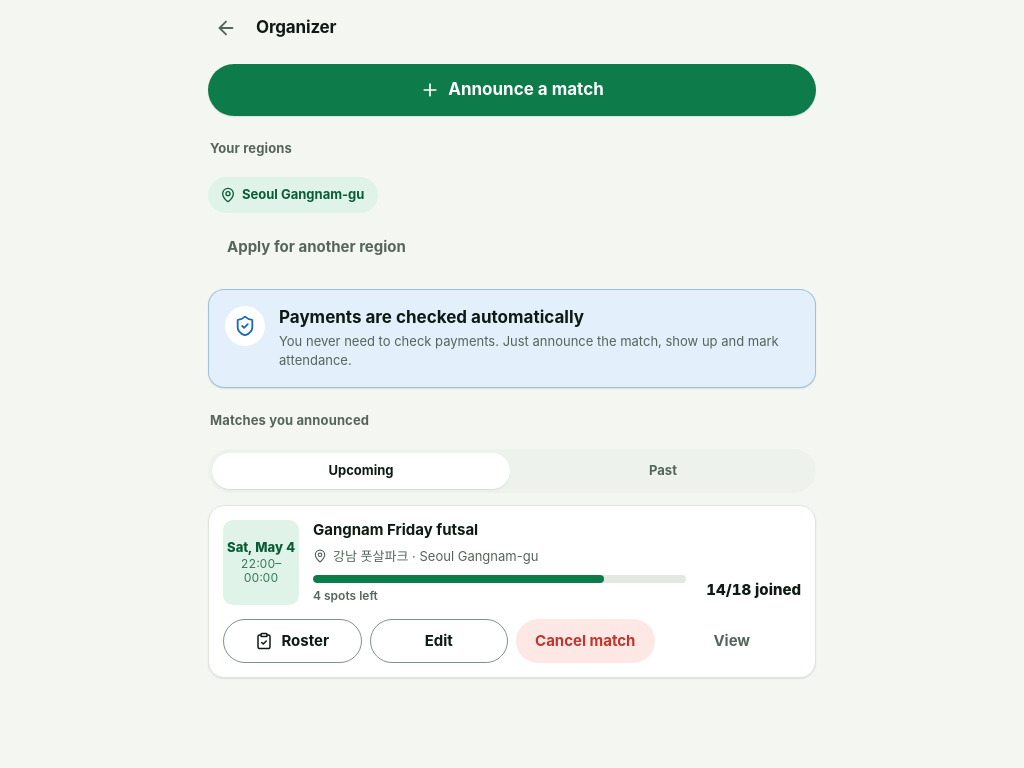
Test: organizer home › cancels an upcoming match after a confirmation, and refreshes the list
What coordinates should you click on to do the following:
click the button with aria-label "Cancel match: Gangnam Friday futsal"
I would click on:
 (585, 641)
Its box is [516,619,654,663].
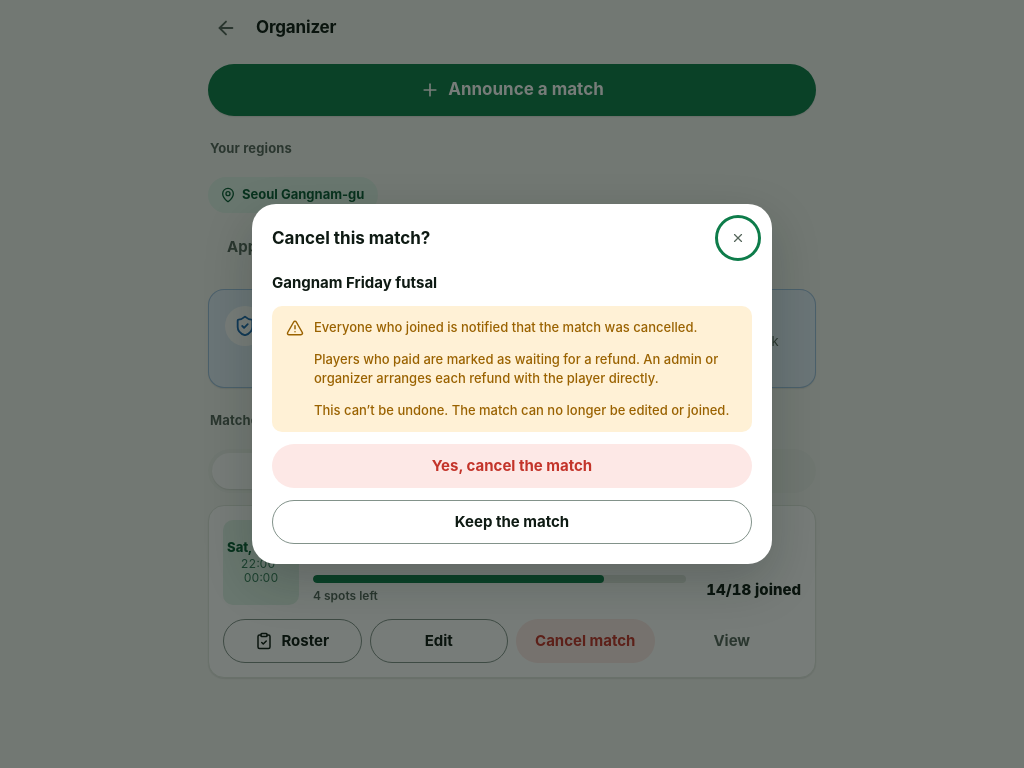
What coordinates should you click on to do the following:
click the button "Yes, cancel the match"
I would click on:
 (512, 466)
Its box is [272,444,752,488].
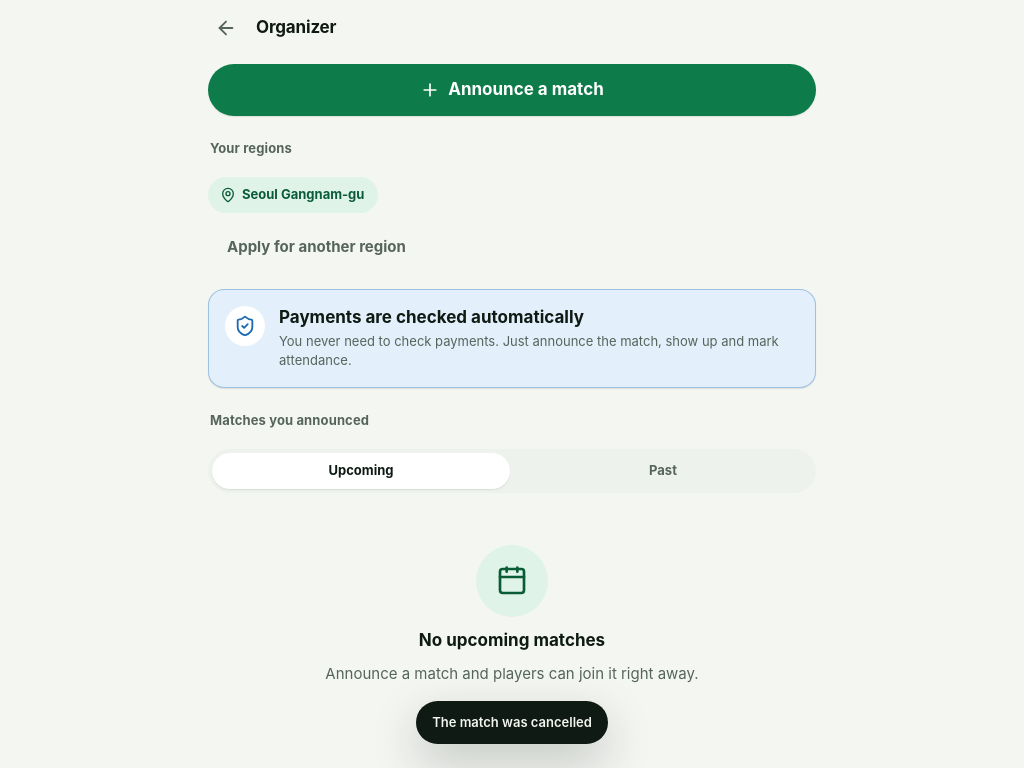
Check: the text "The match was cancelled" is shown, box [416,700,608,744]
Check: the heading "Gangnam Friday futsal" is gone
What coordinates should you click on to do the following:
click the tab "Past"
I would click on:
 (663, 471)
Its box is [514,453,812,489].
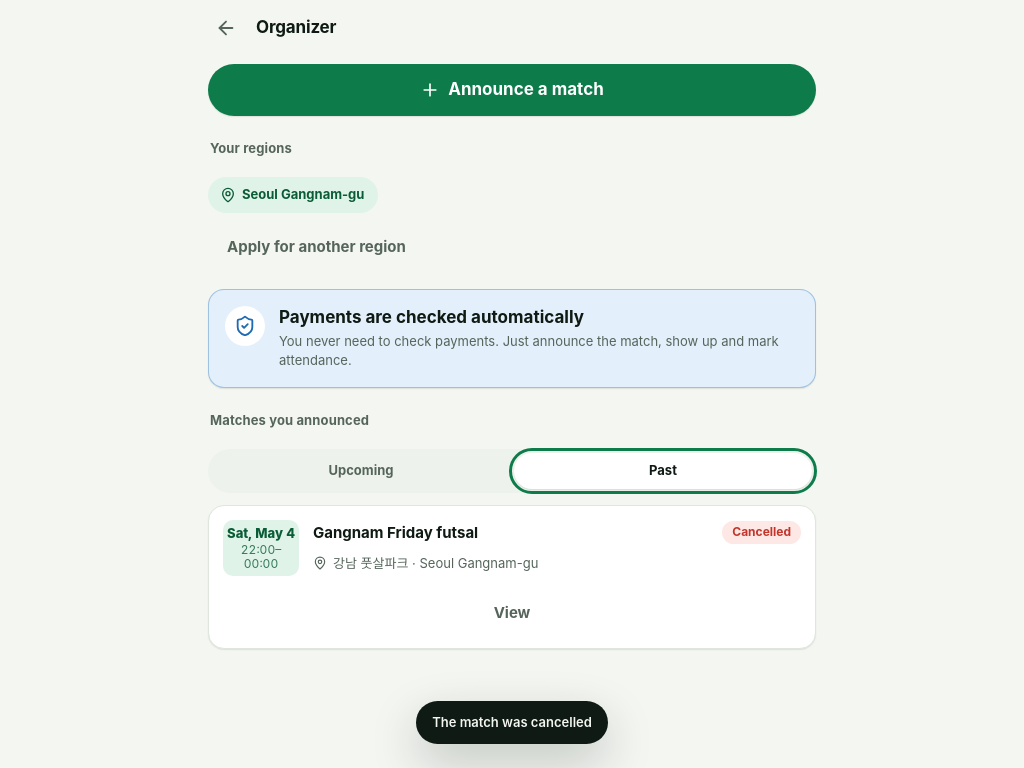
Check: the link "Edit" is not shown
Check: the text "Cancelled" is shown, box [722,521,801,544]
Check: the link with aria-label "View: Gangnam Friday futsal" is shown, box [494,603,530,622]
